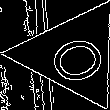O_NE: (35, 23, 110, 86)
